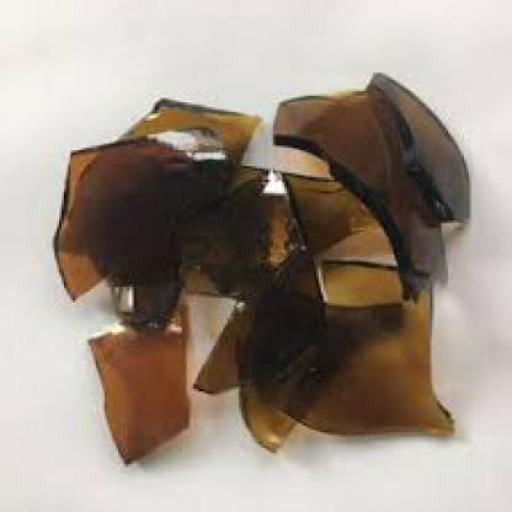glass: (272, 86, 444, 303), (48, 122, 225, 298), (275, 264, 455, 435), (234, 244, 328, 450), (280, 161, 406, 303), (198, 161, 305, 305), (364, 68, 469, 214), (84, 318, 189, 462), (177, 164, 265, 295), (111, 93, 258, 164), (182, 292, 260, 394), (102, 266, 182, 330)
